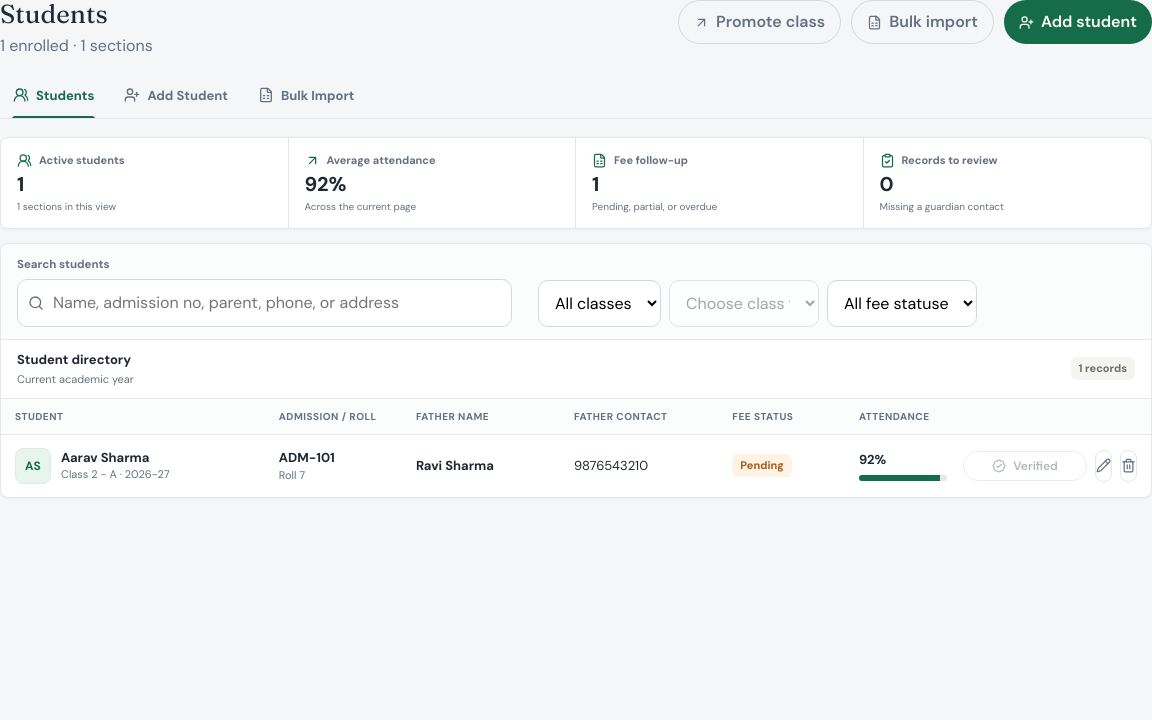
Test case: StudentsPanel › disables verification when both checks are complete and enables it after an edit
This screenshot has width=1152, height=720.
Expected: the button with aria-label "verify details for aarav sharma" is disabled, [963,451,1087,481]
Expected: the button with aria-label "verify details for aarav sharma" reads "Verified", [963,451,1087,481]
Click the button named "edit aarav sharma" at (1104,466), box [1095,450,1112,482]
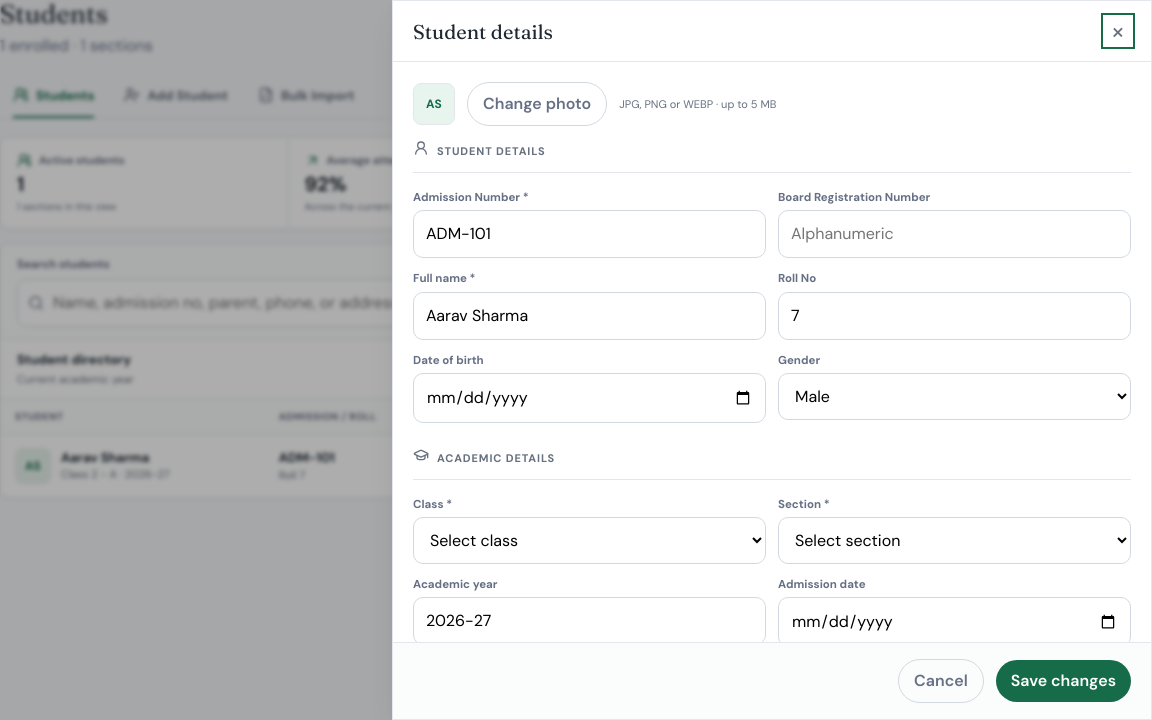
Click the button "Save changes" at (1063,681), box [996,660,1131,702]
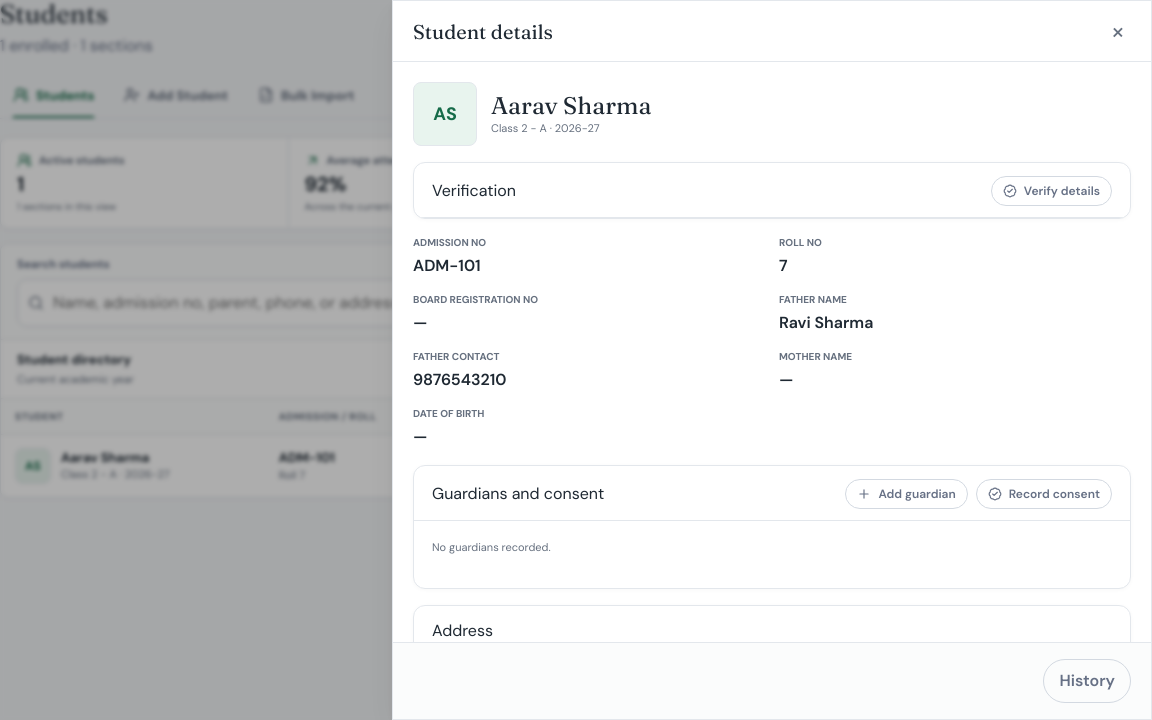
Expected: the button with aria-label "verify details for aarav sharma" is enabled, [963,451,1087,481]
